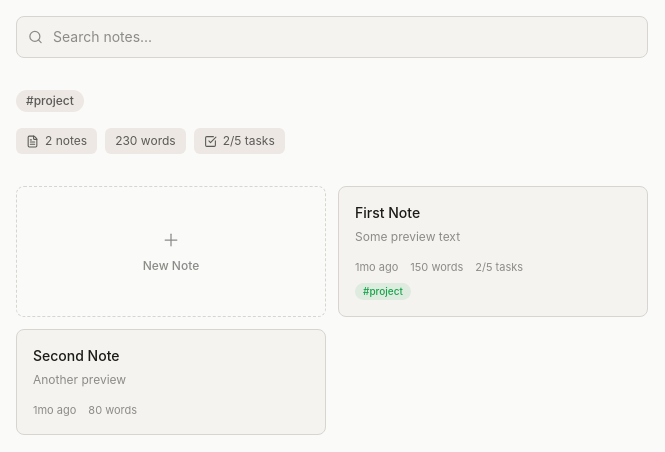
Test: HomePage › filters notes client-side by title
Type "First" into the field with placeholder "Search notes..." at (332, 37), box [16,16,648,58]
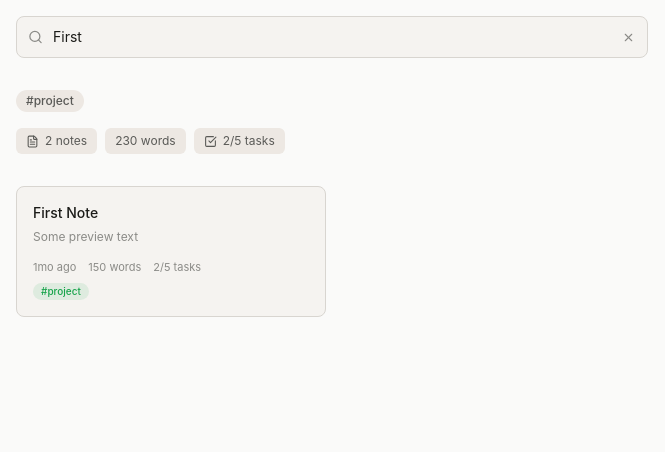
Check: the text "First Note" is shown, box [33,204,98,221]
Check: the button "Second Note" is gone
